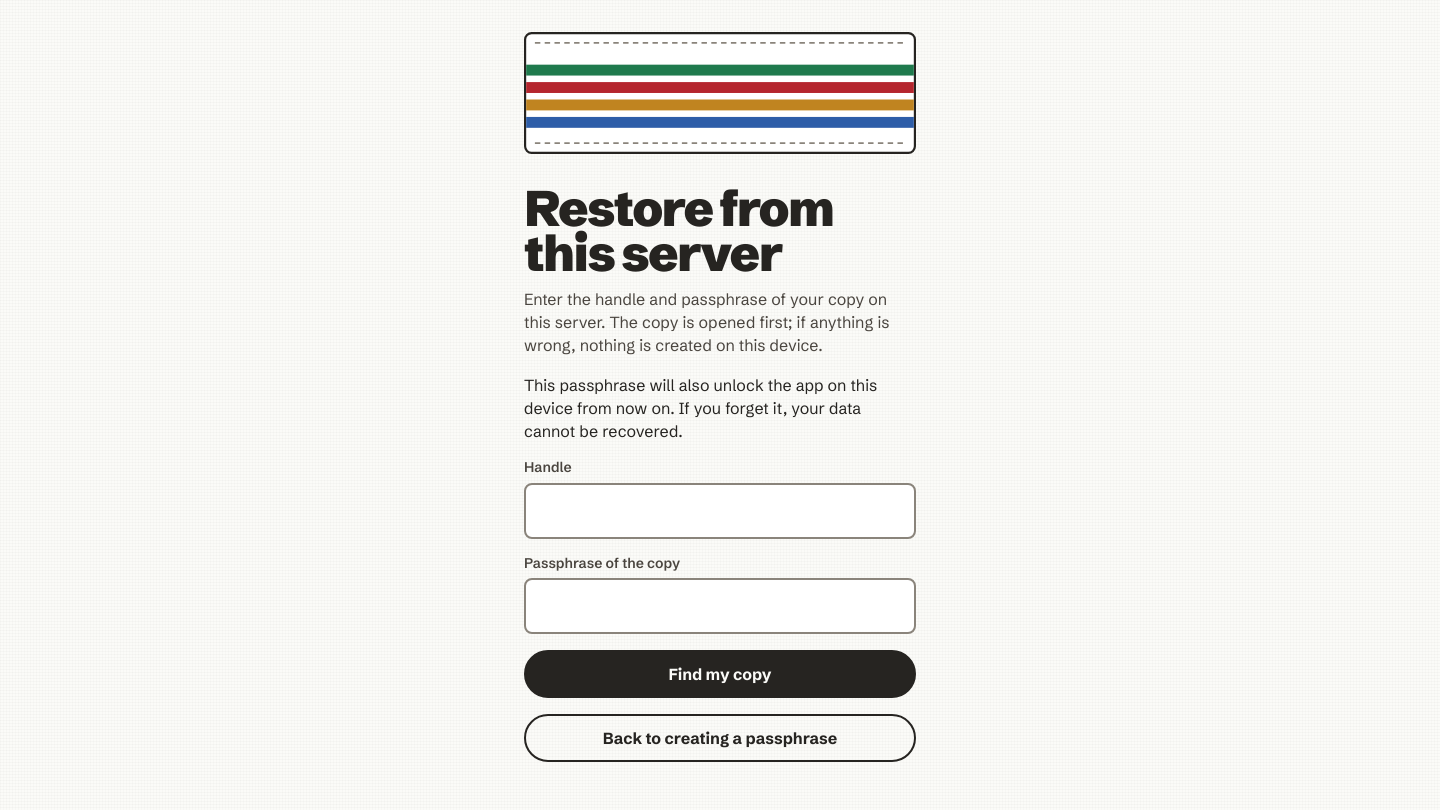
Test: RestoreFromServerScreen › asks for both fields before looking
Click the button "Find my copy" at (720, 674), box [524,650,916,698]
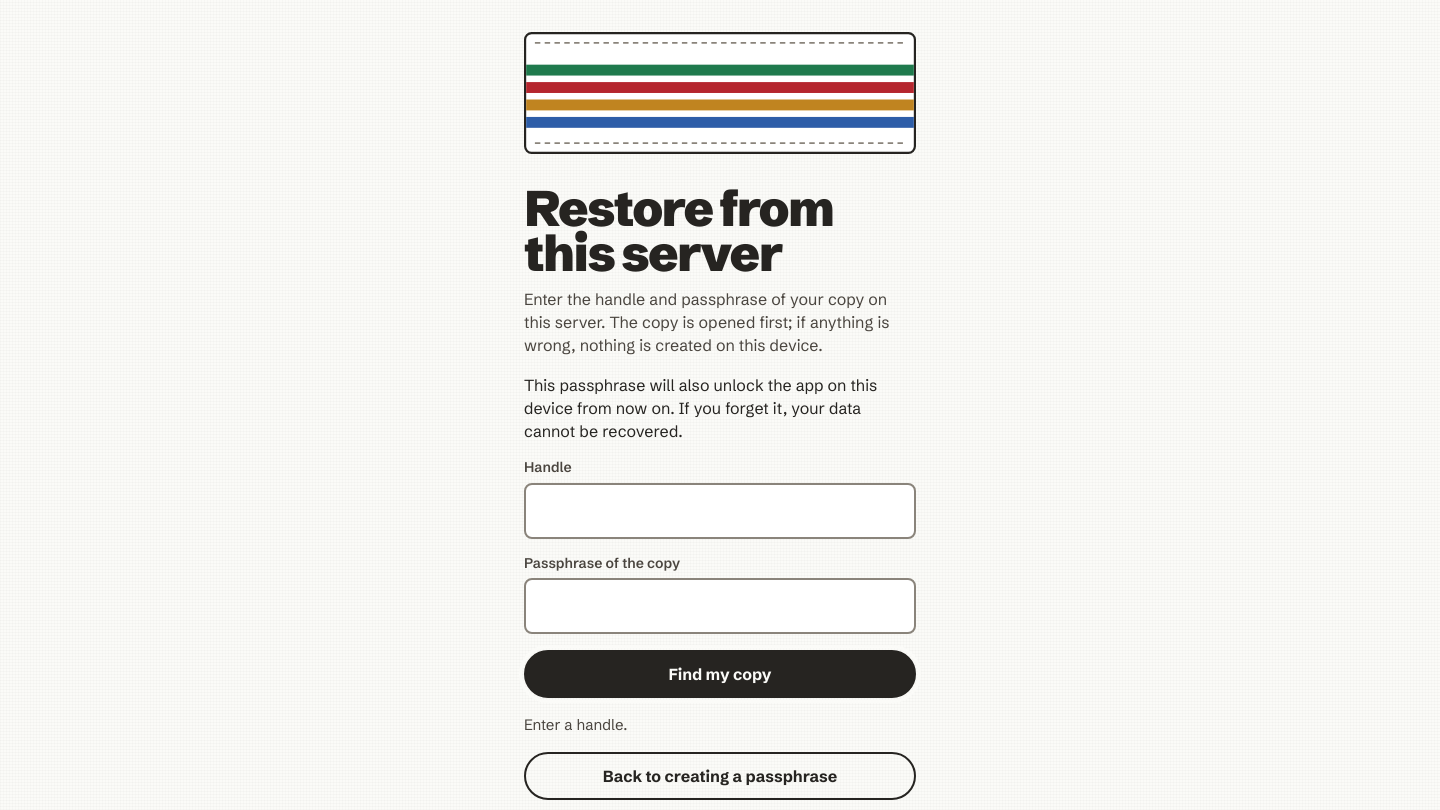
Check: the text "Enter a handle." is shown, box [524,715,628,734]
Type "alice" into the field labelled "Handle" at (720, 511), box [526,485,914,537]
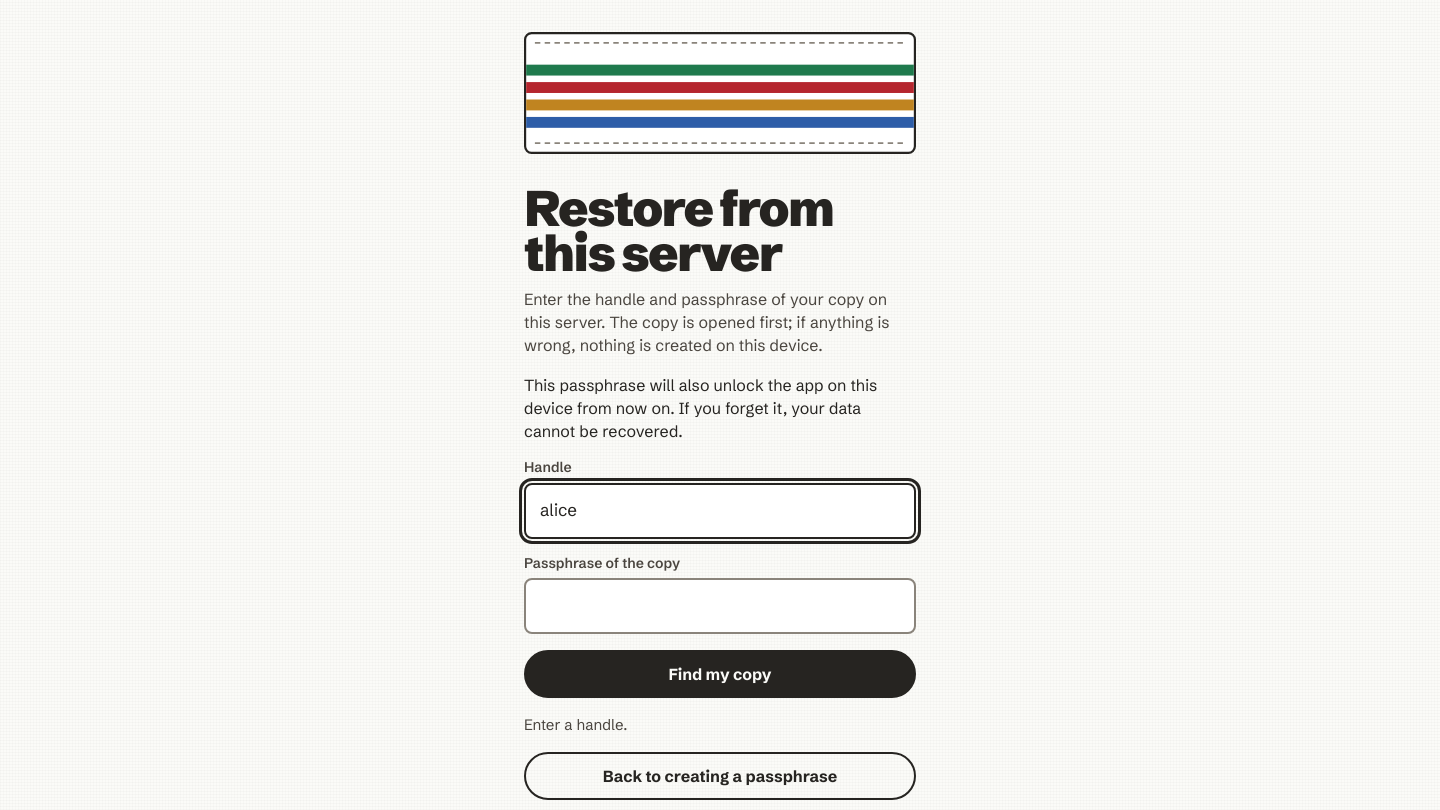
Click the button "Find my copy" at (720, 674), box [524,650,916,698]
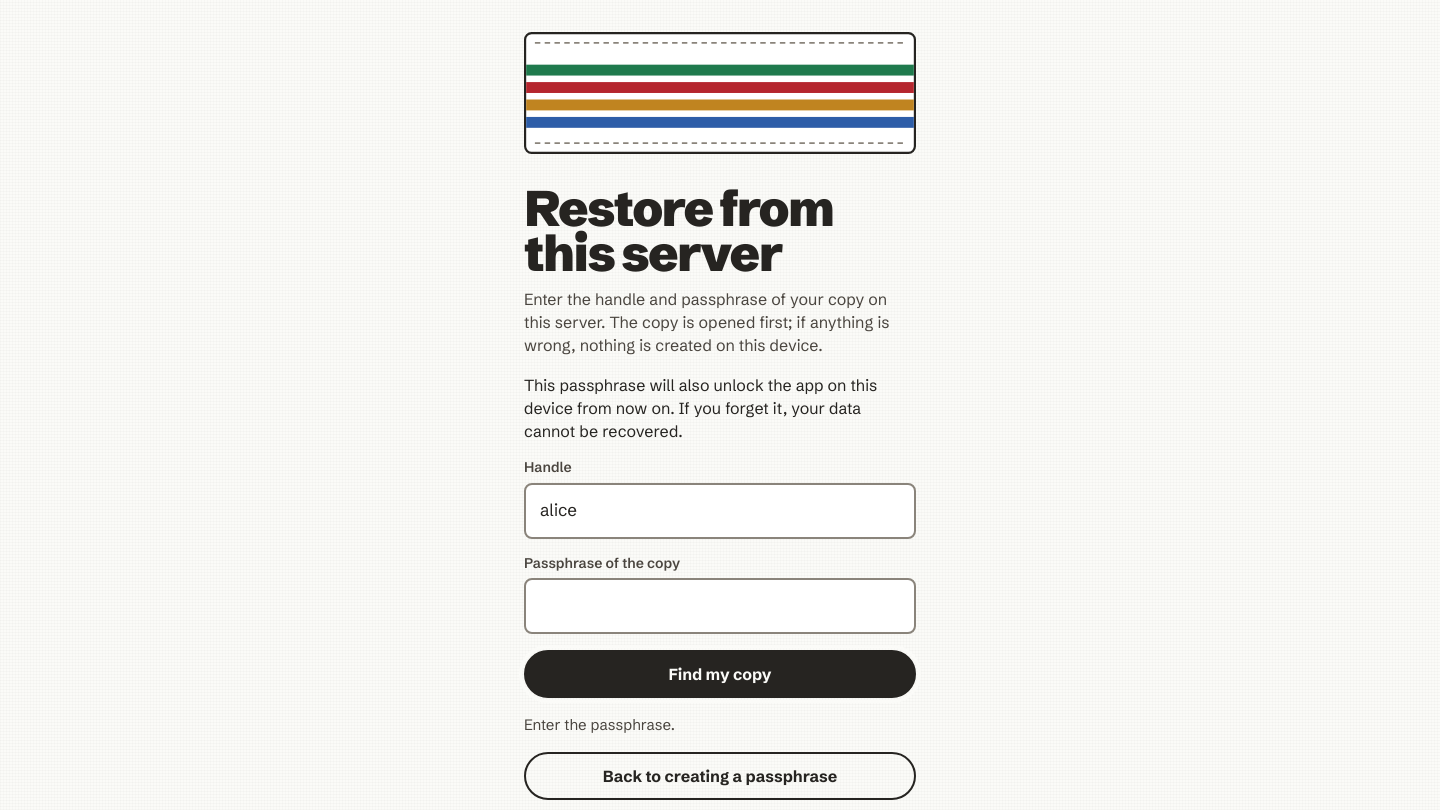
Check: the text "Enter the passphrase." is shown, box [524,715,675,734]
